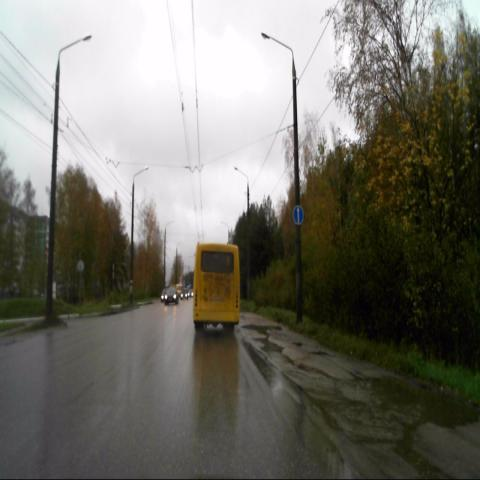4_1_1: (292, 205, 304, 225)
